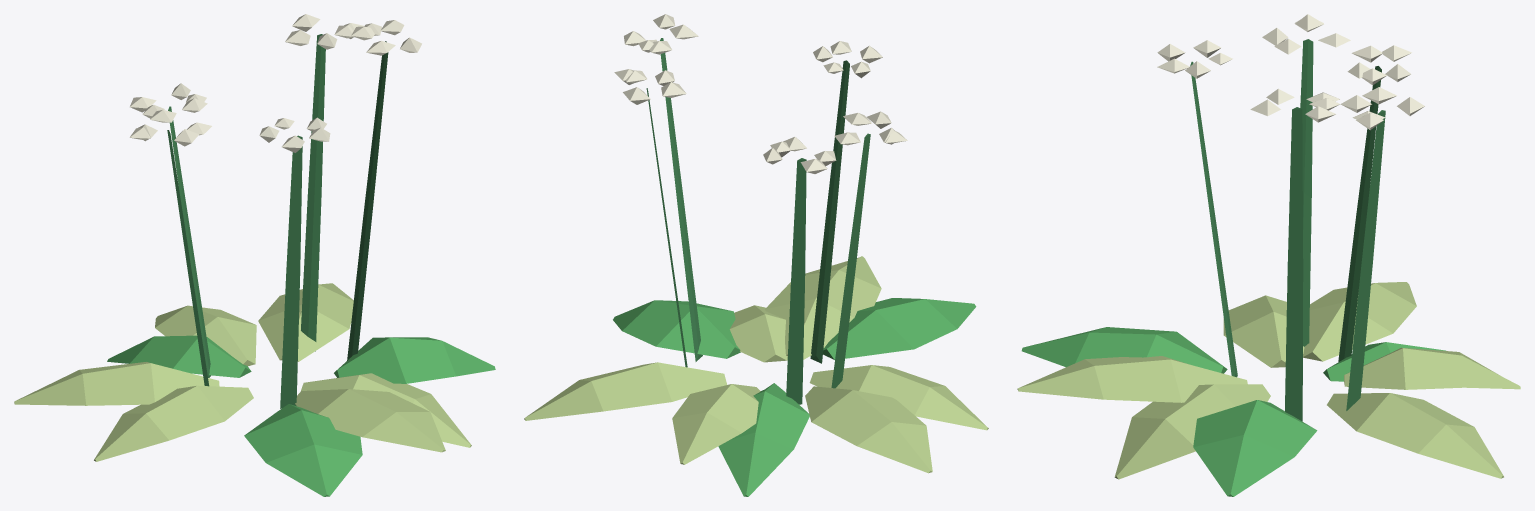
The model's file is medicinal_herb.glb.
The picture shows the model from 3 angles, left to right: view 1: azimuth 30°, elevation 25°; view 2: azimuth 150°, elevation 25°; view 3: azimuth 270°, elevation 25°; orthographic projection. The views are drawn at different scales.
Visible parts, largest first — view 1: medicinal_herb.001; view 2: medicinal_herb.001; view 3: medicinal_herb.001.
Boxes of the visible parts, bbox=[...] form: medicinal_herb.001: bbox=[14, 14, 495, 496]; medicinal_herb.001: bbox=[524, 14, 988, 496]; medicinal_herb.001: bbox=[1017, 14, 1520, 496].
Bounding box in the file's own units: 0.3984 × 0.34 × 0.4024.
